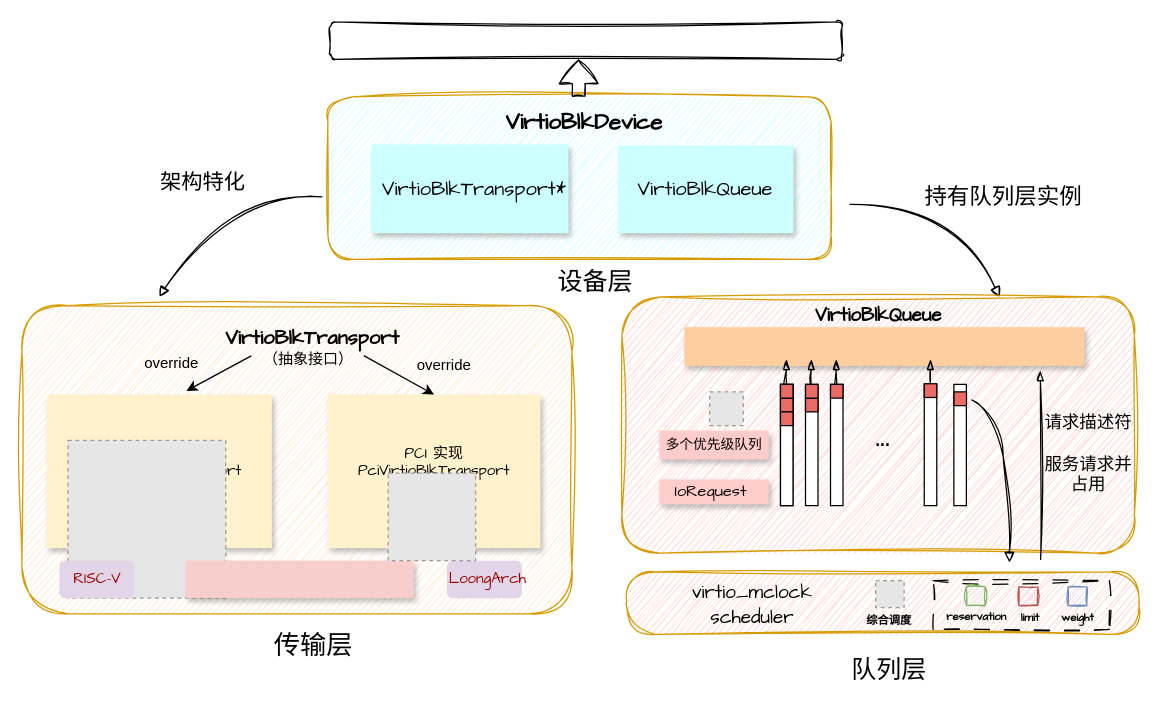
Image size: 1161x718. Some labels were removed from this diagram. Grey dashed boxes stand in for pictures. The shapes that lost their labels are listed below. From the top down, each one's centre as x and y in pixels, then its label:
At [585,40]: "信息查询、终端处理与同步提交".
At [885,348]: "描述符表 (desc_/avail_/used_)".
At [300,580]: "底层完成init/read/write接口".
